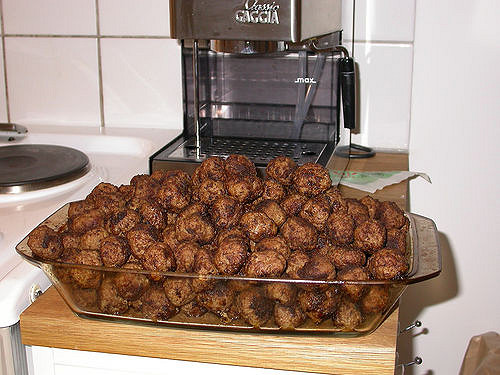meatballs: (89, 184, 377, 269)
